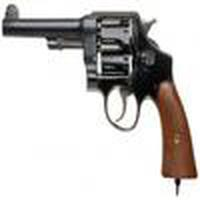gun: (2, 5, 199, 186)
